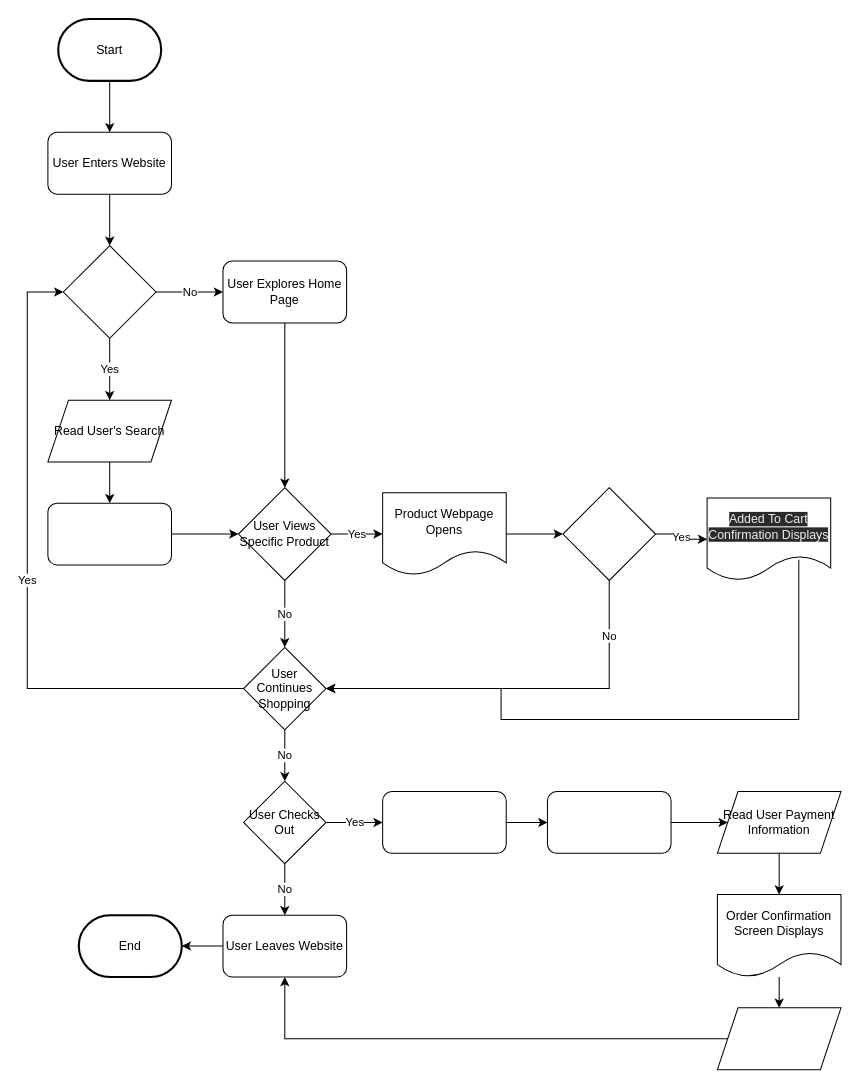
The diagram is 859 pixels wide and 1088 high, and some of its shapes have lost their labels. Each missing label, with the centre of its shape:
"Send confirmation email to user" goes at point (778, 1038).
"User Adds Item To Cart" goes at point (609, 533).
"User Explores Search Results" goes at point (109, 533).
"User Reaches View Cart Screen" goes at point (444, 822).
"User Reaches View Payment Screen" goes at point (608, 822).
"User searches for new product" goes at point (109, 291).
